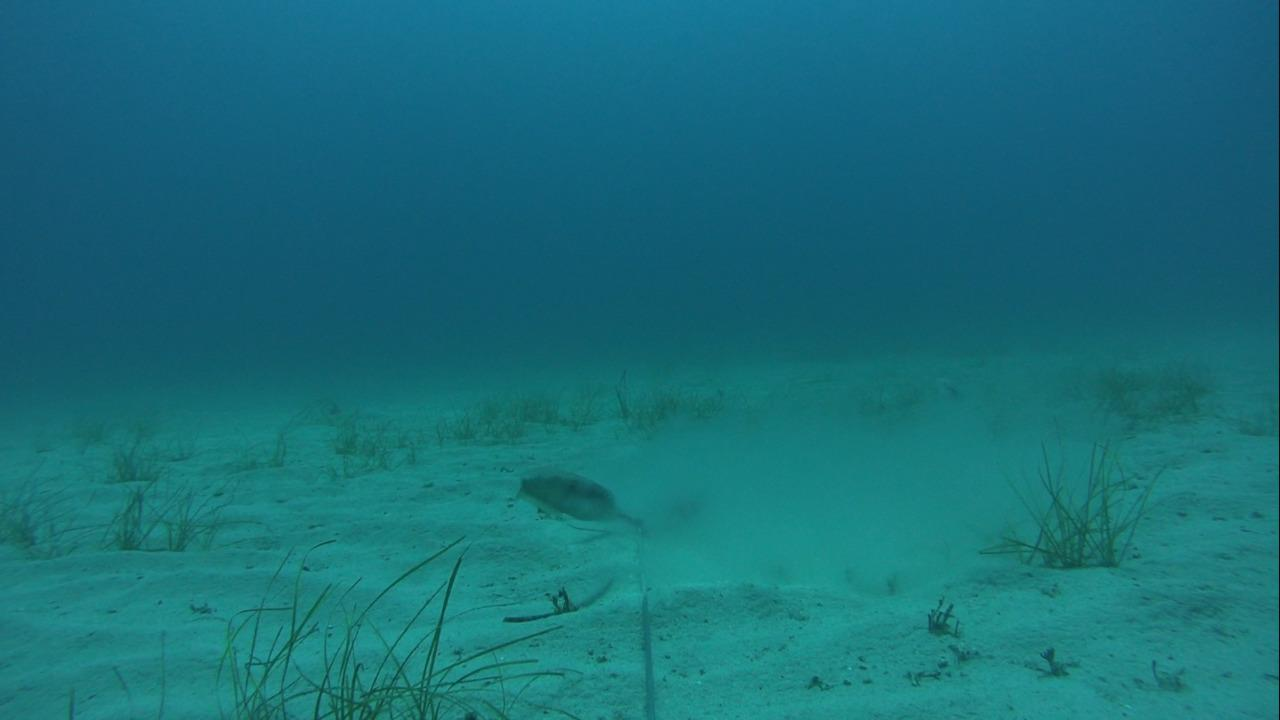raor: (516, 463, 620, 528)
